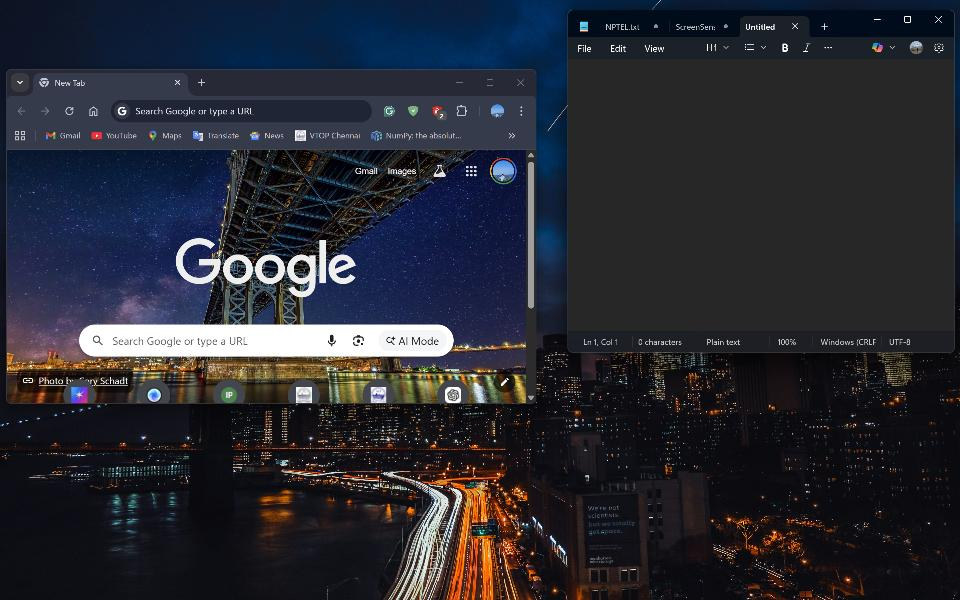close_button: (511, 69, 532, 96), (929, 11, 947, 34)
maximize_button: (481, 69, 503, 96), (898, 10, 918, 37)
minimize_button: (447, 69, 472, 95), (867, 11, 888, 35)
